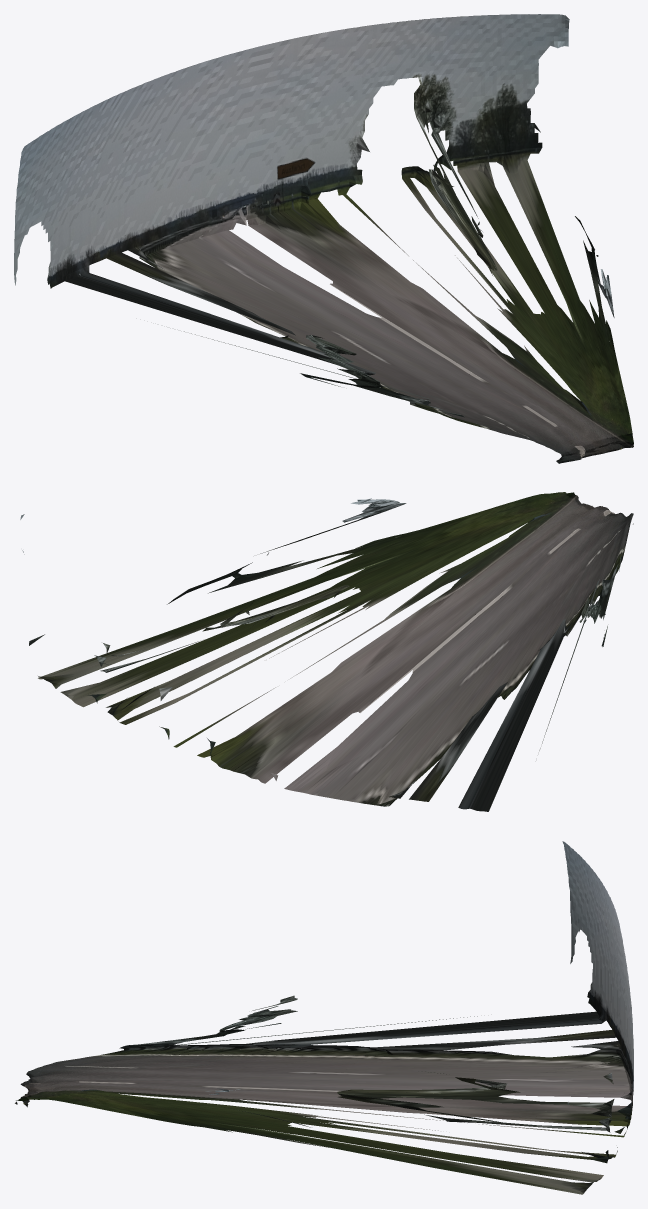
3 renders of one model, top to bottom at view 1: azimuth 30°, elevation 25°; view 2: azimuth 150°, elevation 25°; view 3: azimuth 270°, elevation 25°, orthographic. The views are drawn at different scales.
Visible parts, largest first — view 1: defaultobject; view 2: defaultobject; view 3: defaultobject.
Part boxes in pixels (left/top/right/bottom): defaultobject: left=14, top=14, right=633, bottom=463; defaultobject: left=20, top=492, right=633, bottom=811; defaultobject: left=15, top=841, right=633, bottom=1194.
Size of the model in its own units: 40.97 by 13.1 by 44.81.
1 material, 1 textured.
